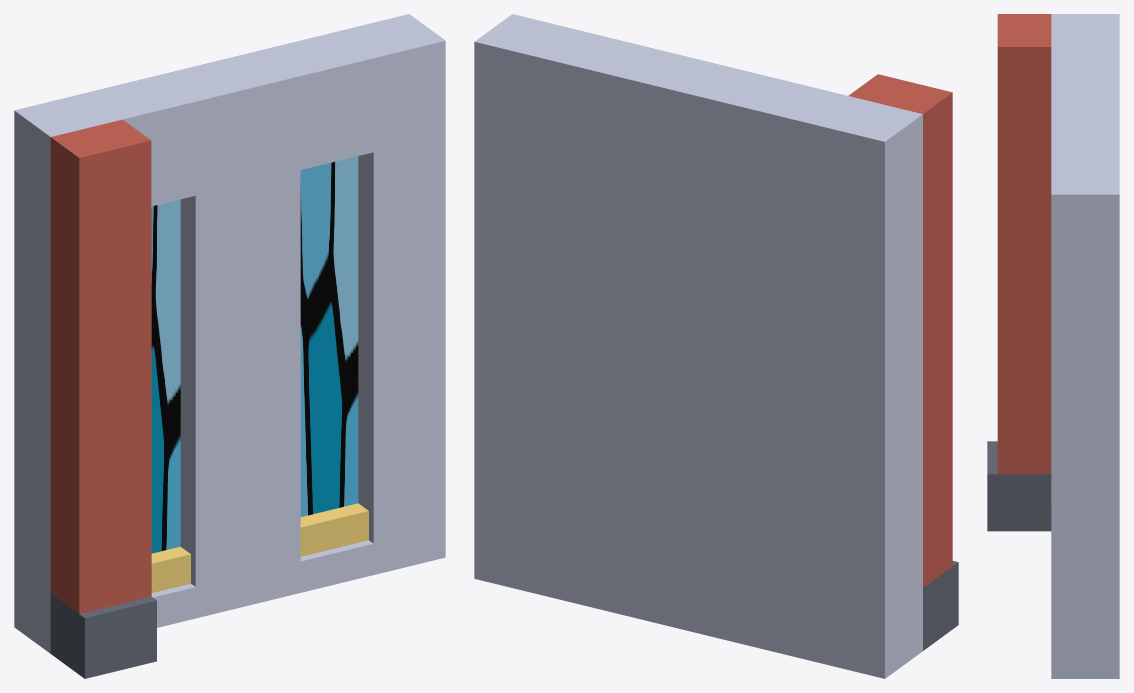
Rendered from stage4_wall1.fbx.
The picture shows the model from 3 angles, left to right: view 1: azimuth 30°, elevation 25°; view 2: azimuth 150°, elevation 25°; view 3: azimuth 270°, elevation 25°; orthographic projection. The views are drawn at different scales.
Parts seen in each view (by area): view 1: wall; view 2: wall; view 3: wall.
Boxes of the visible parts, x1=… form: wall: x1=14, y1=14, x2=445, y2=678; wall: x1=474, y1=14, x2=958, y2=678; wall: x1=987, y1=14, x2=1119, y2=678.
Bounding box in the file's own units: 400 × 500 × 124.
